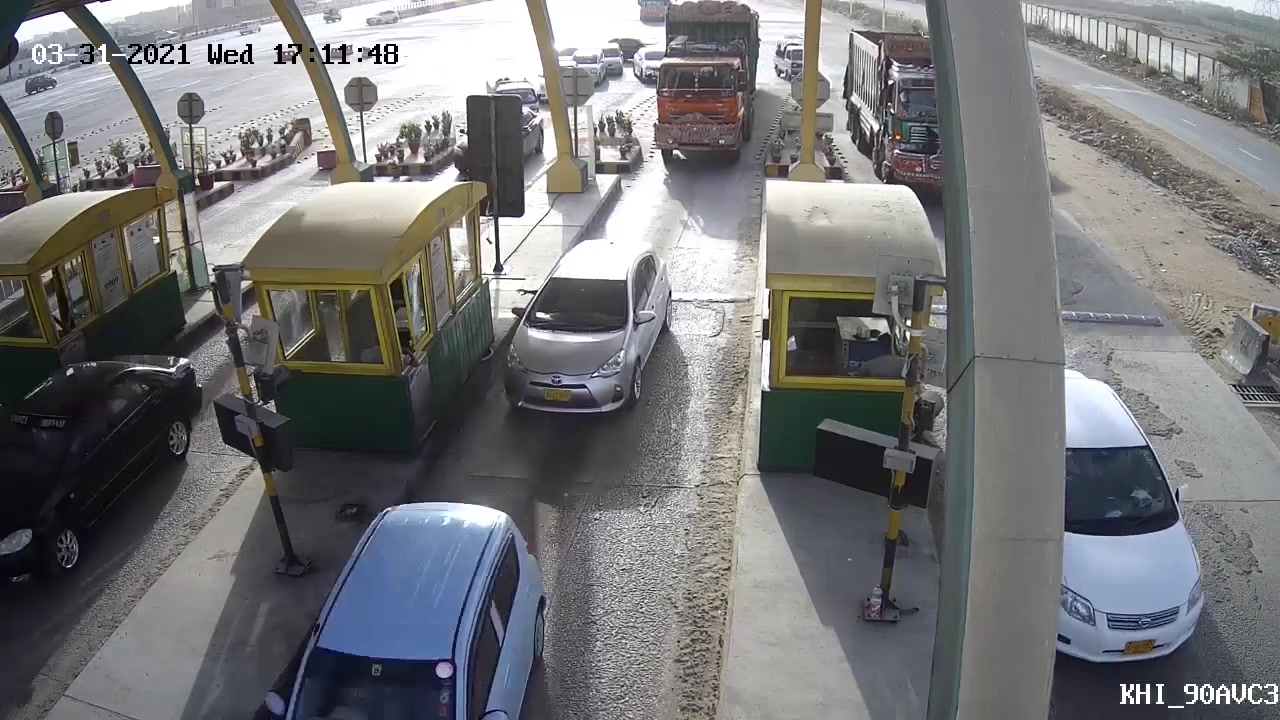F1: (500, 228, 681, 423)
F6: (637, 1, 763, 185)
